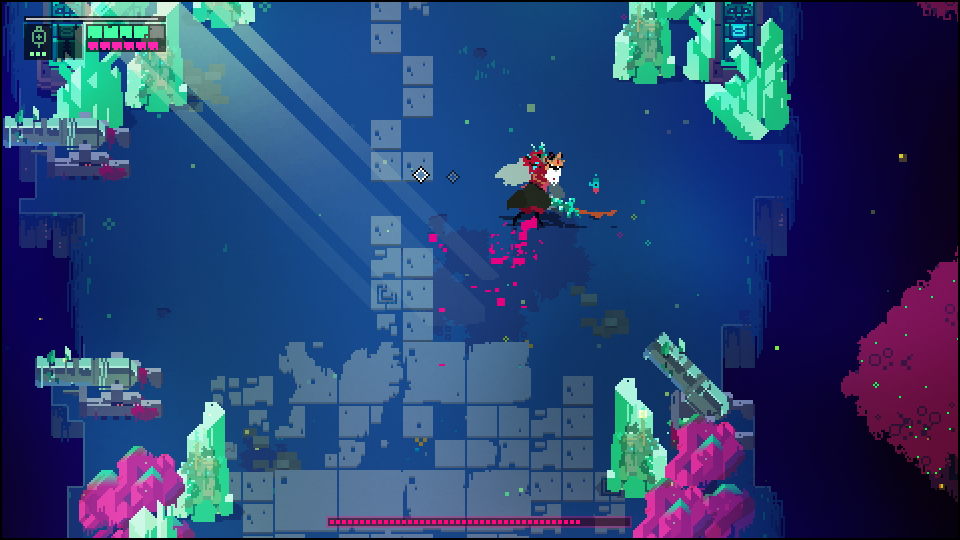hanged_man: (494, 139, 589, 235)
